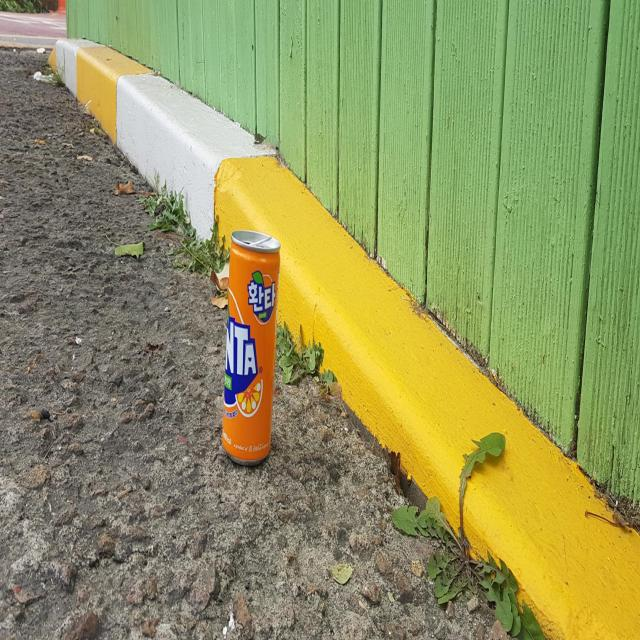can: (222, 229, 280, 463)
